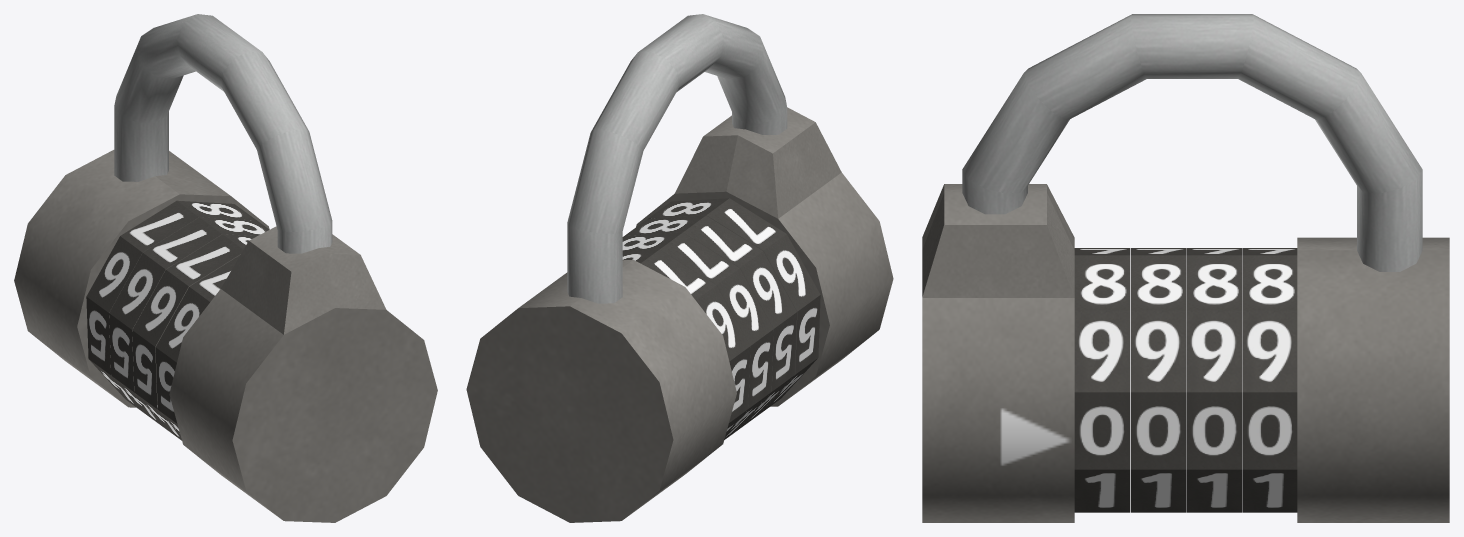
Rendered from fbx_NumberLock.fbx.
3 renders of one model, left to right at view 1: azimuth 30°, elevation 25°; view 2: azimuth 150°, elevation 25°; view 3: azimuth 270°, elevation 25°, orthographic. The views are drawn at different scales.
Visible parts, largest first — view 1: Frame, shackle, Lock3, Lock4, Lock2, Lock; view 2: Frame, shackle, Lock, Lock2, Lock3, Lock4; view 3: Frame, shackle, Lock, Lock2, Lock3, Lock4.
Part boxes in pixels (bbox=[...]): Frame: bbox=[14, 150, 437, 522]; shackle: bbox=[114, 14, 332, 253]; Lock3: bbox=[109, 217, 269, 432]; Lock4: bbox=[86, 200, 256, 415]; Lock2: bbox=[132, 234, 256, 440]; Lock: bbox=[155, 255, 240, 433]; Frame: bbox=[466, 107, 893, 522]; shackle: bbox=[567, 14, 787, 303]; Lock: bbox=[625, 198, 820, 414]; Lock2: bbox=[625, 215, 796, 431]; Lock3: bbox=[622, 232, 773, 439]; Lock4: bbox=[622, 249, 750, 432]; Frame: bbox=[922, 184, 1449, 522]; shackle: bbox=[962, 14, 1422, 271]; Lock: bbox=[1074, 248, 1130, 512]; Lock2: bbox=[1131, 248, 1186, 512]; Lock3: bbox=[1187, 248, 1242, 512]; Lock4: bbox=[1243, 248, 1297, 512].
Bounding box in the file's own units: 14.17 × 26.91 × 26.08.
